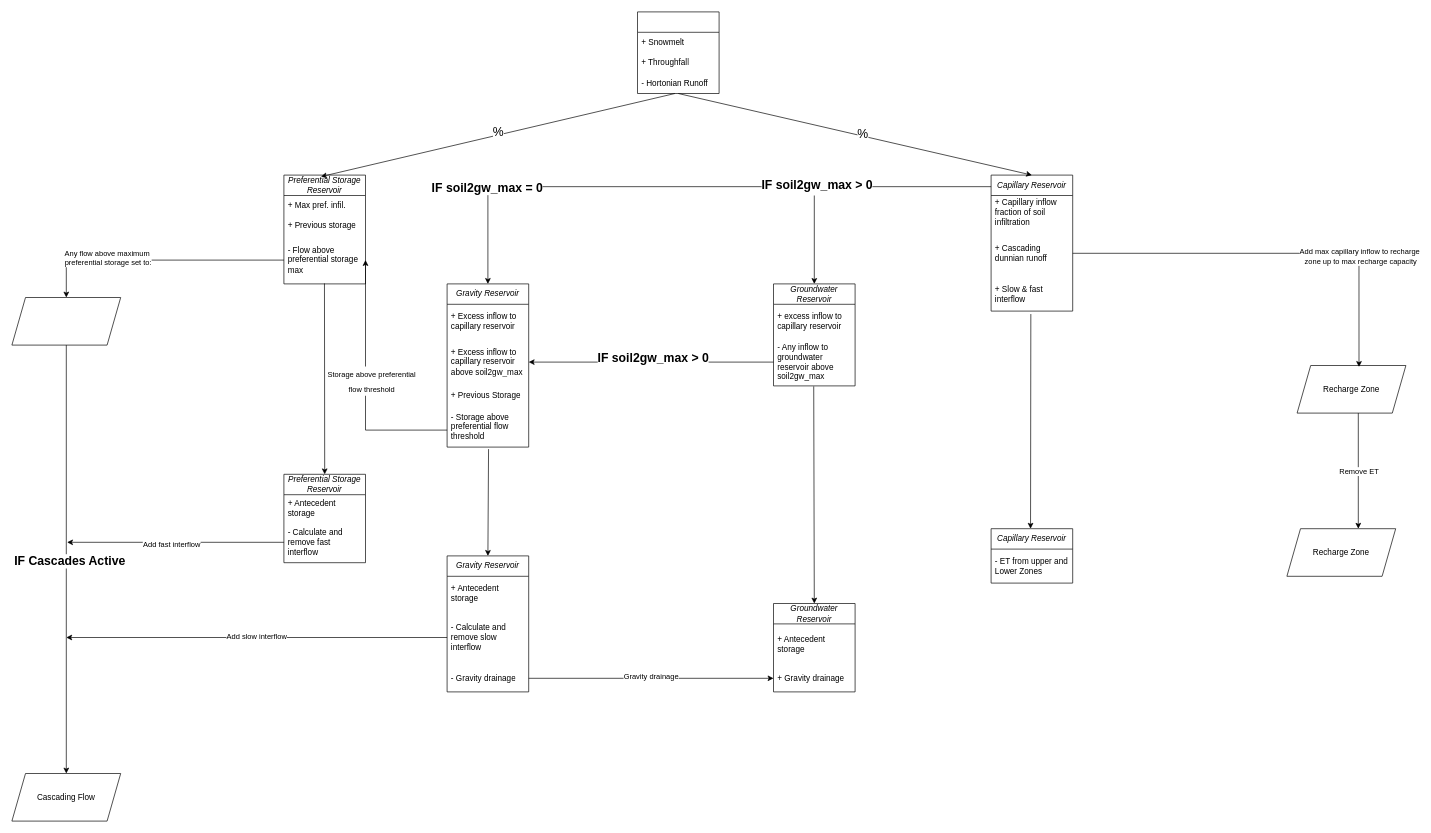
The diagram is 1431 pixels wide and 833 high, and some of its shapes have lost their labels. The box of each missing label's shape, as (x1, y1, x2, y2) in pixels:
Dunnian Runoff: (11, 297, 121, 345)
Soil Infiltration: (637, 11, 719, 94)
